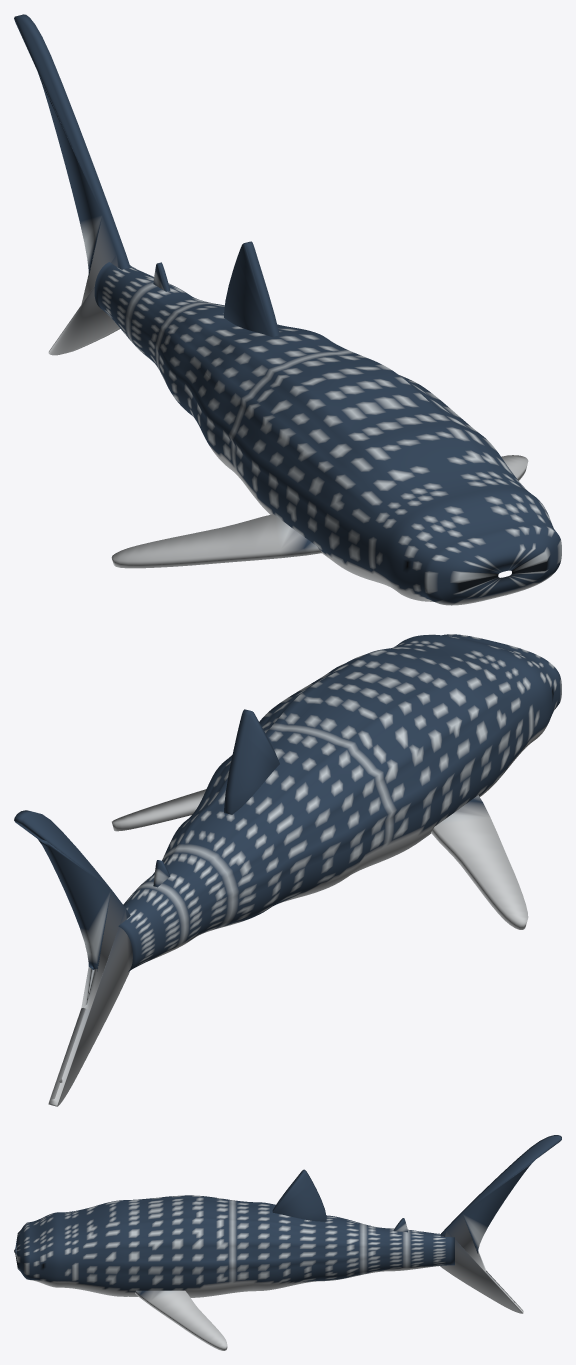
File: whaleshark.glb
The picture shows the model from 3 angles, top to bottom: view 1: azimuth 30°, elevation 25°; view 2: azimuth 150°, elevation 25°; view 3: azimuth 270°, elevation 25°; orthographic projection. The views are drawn at different scales.
Visible parts, largest first — view 1: whaleshark; view 2: whaleshark; view 3: whaleshark.
Part boxes in pixels (left/top/right/bottom): whaleshark: left=14, top=14, right=561, bottom=605; whaleshark: left=14, top=634, right=561, bottom=1106; whaleshark: left=14, top=1135, right=561, bottom=1350.
Bounding box in the file's own units: 0.4749 × 0.3444 × 0.9706.
